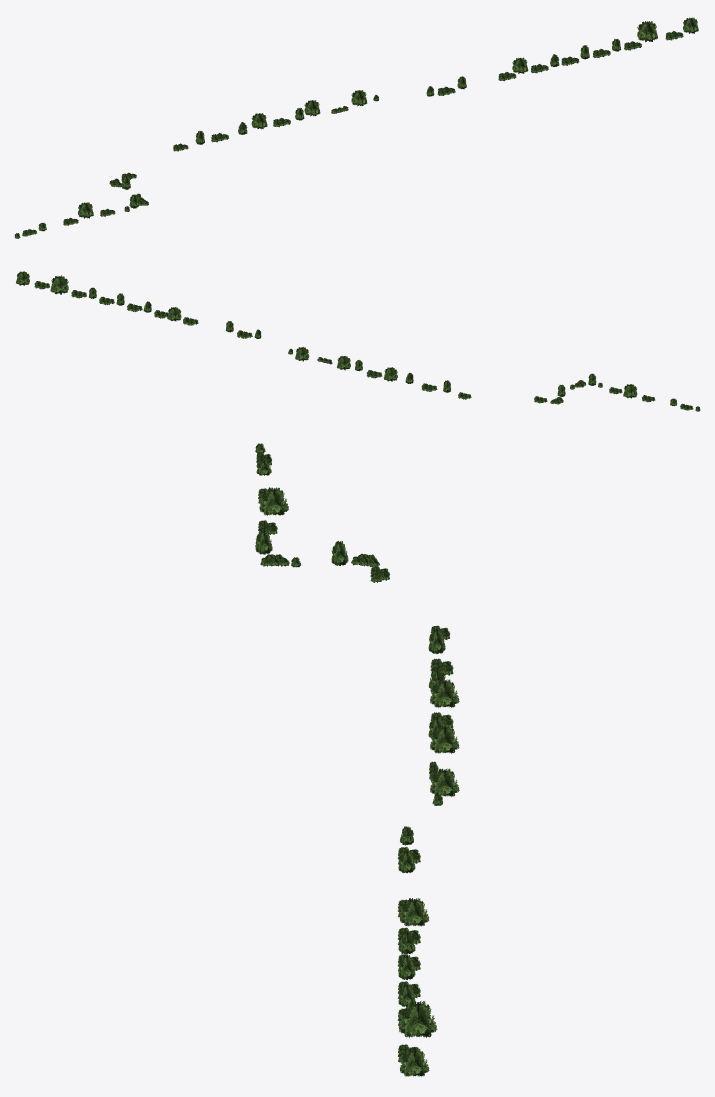
File: envShrubs.fbx
3 views of the same model, one above another, from view 1: azimuth 30°, elevation 25°; view 2: azimuth 150°, elevation 25°; view 3: azimuth 270°, elevation 25° (orthographic). The views are drawn at different scales.
Parts seen in each view (by area): view 1: envShrubs; view 2: envShrubs; view 3: envShrubs.
Part boxes in pixels (<box>): envShrubs: <box>14,17,698,238</box>; envShrubs: <box>16,271,700,411</box>; envShrubs: <box>255,443,459,1076</box>.
Size of the model in its own units: 11080 by 312 by 1522.
1 material, 1 textured.
